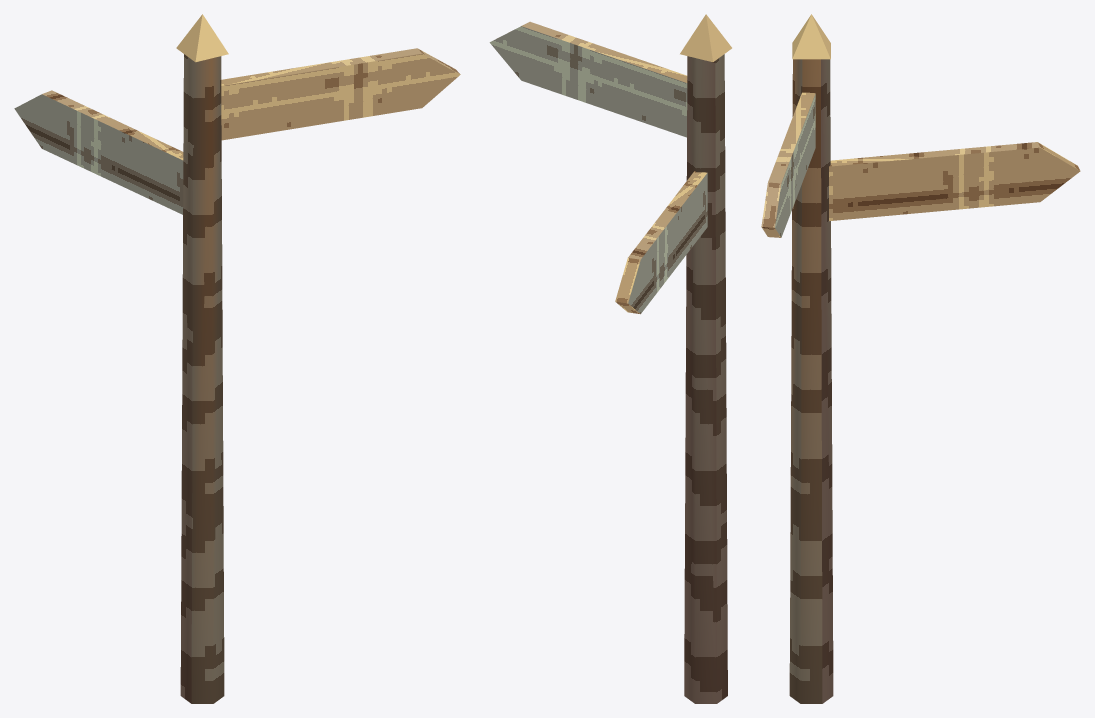
The model's file is wprop.signpost__two.glb.
3 renders of one model, left to right at view 1: azimuth 30°, elevation 25°; view 2: azimuth 150°, elevation 25°; view 3: azimuth 270°, elevation 25°, orthographic.
Visible parts, largest first — view 1: kit_post, kit_boards, kit_cap; view 2: kit_post, kit_boards, kit_cap; view 3: kit_post, kit_boards, kit_cap.
Part boxes in pixels (x1,y1,x2,y2): kit_post: (180, 54, 224, 703); kit_boards: (14, 48, 460, 214); kit_cap: (176, 14, 228, 62); kit_post: (684, 54, 727, 703); kit_boards: (489, 21, 707, 314); kit_cap: (680, 14, 731, 62); kit_post: (789, 59, 833, 703); kit_boards: (761, 92, 1080, 237); kit_cap: (792, 14, 830, 59).
Bounding box in the file's own units: 1.22 × 2.75 × 1.17.
3 materials, 3 textured.
